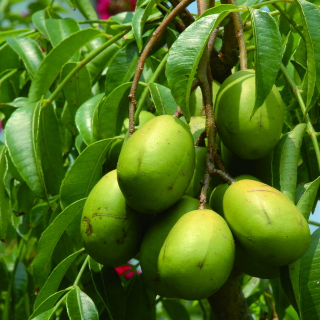coc: (118, 114, 195, 215)
